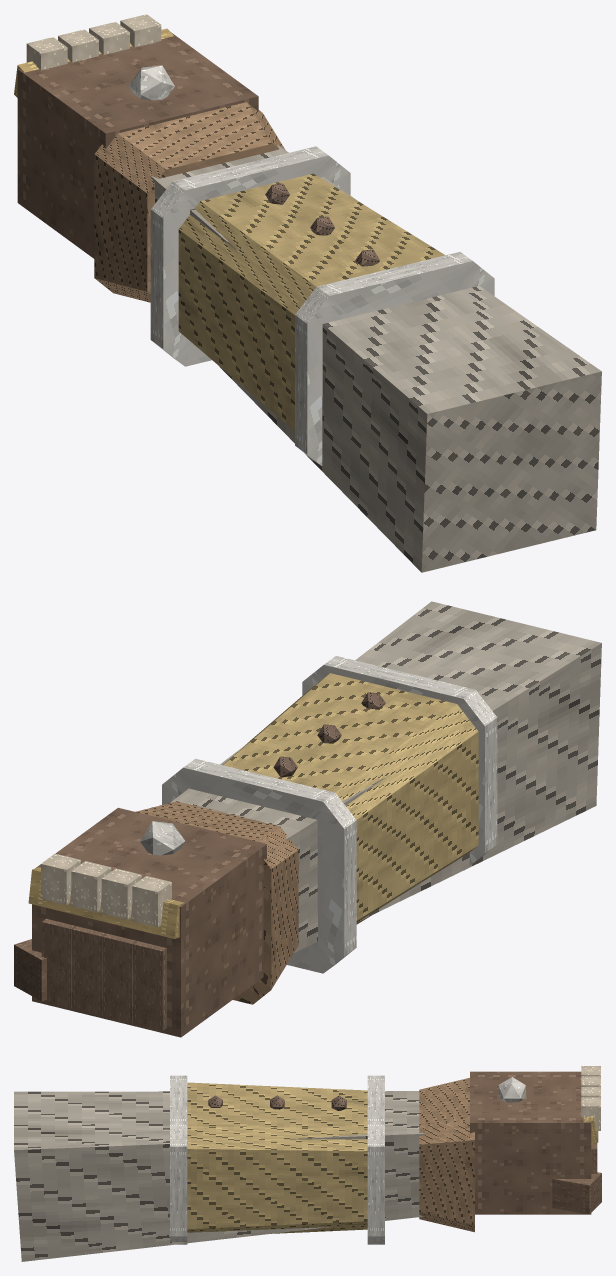
Rendered from vm_fist.gltf.
3 views of the same model, one above another, from view 1: azimuth 30°, elevation 25°; view 2: azimuth 150°, elevation 25°; view 3: azimuth 270°, elevation 25° (orthographic). The views are drawn at different scales.
Visible parts, largest first — view 1: forearm, fist, trim, knuckles; view 2: forearm, fist, trim, knuckles; view 3: forearm, fist, trim, knuckles.
Boxes of the visible parts, x1,y1,x2,y2 form: forearm: (94,102,601,572); fist: (14,28,258,258); trim: (128,65,494,465); knuckles: (26,14,161,70); forearm: (135,601,601,1004); fist: (14,807,266,1037); trim: (140,656,497,973); knuckles: (41,853,171,927); forearm: (14,1078,474,1261); fist: (470,1071,601,1214); trim: (170,1075,525,1244); knuckles: (581,1066,600,1130).
Size of the model in its own units: 0.1217 by 0.136 by 0.4758.
4 materials, 4 textured.
